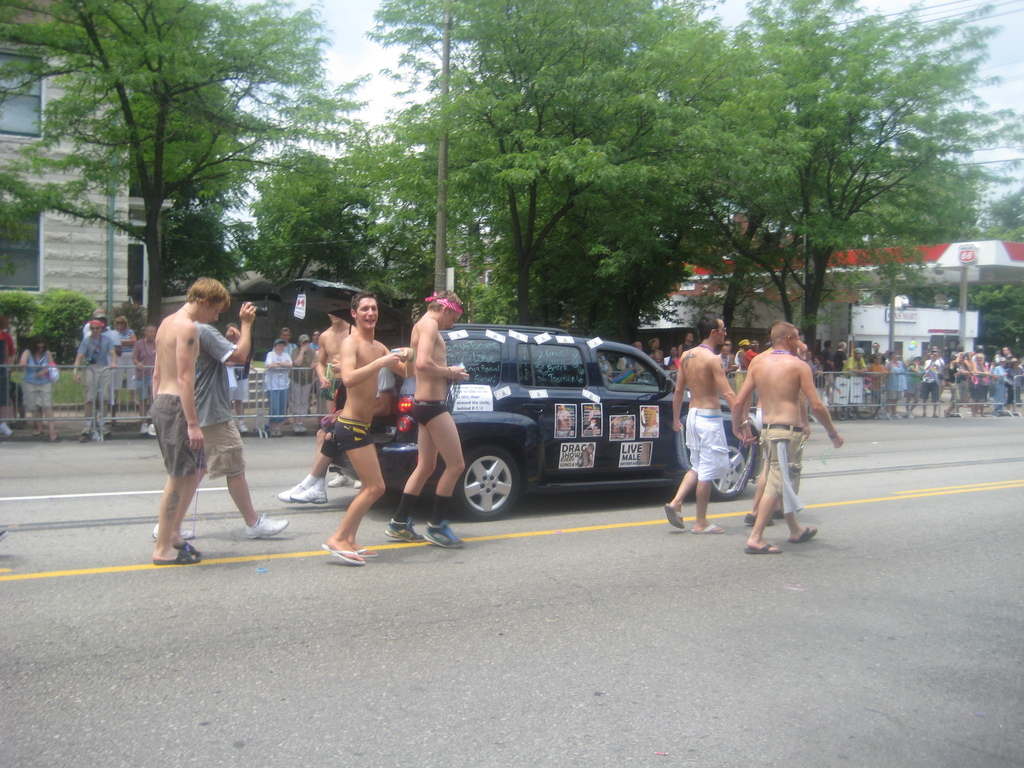Car: (380, 325, 765, 521)
